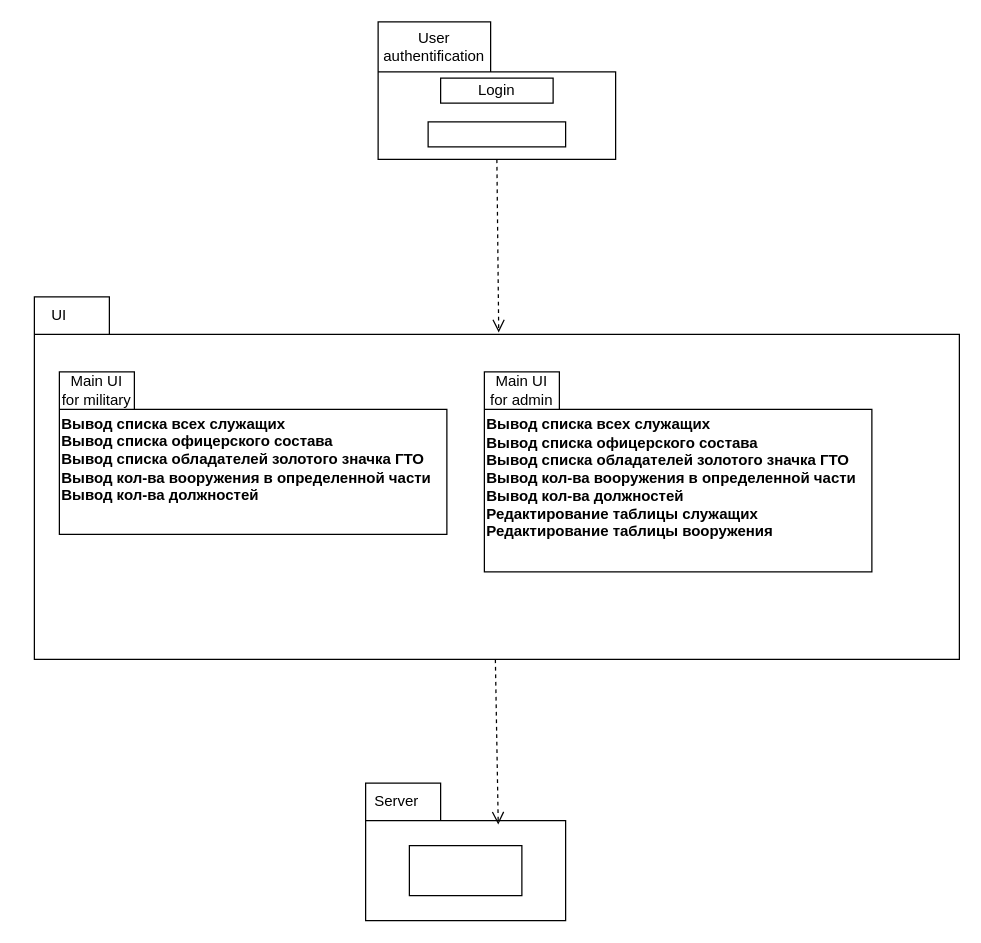
The diagram is 981 pixels wide and 943 high, and some of its shapes have lost their labels. The centre of each missing label's shape, as x and y in pixels:
"Data base" goes at (465,870).
"Password" goes at (496,134).
